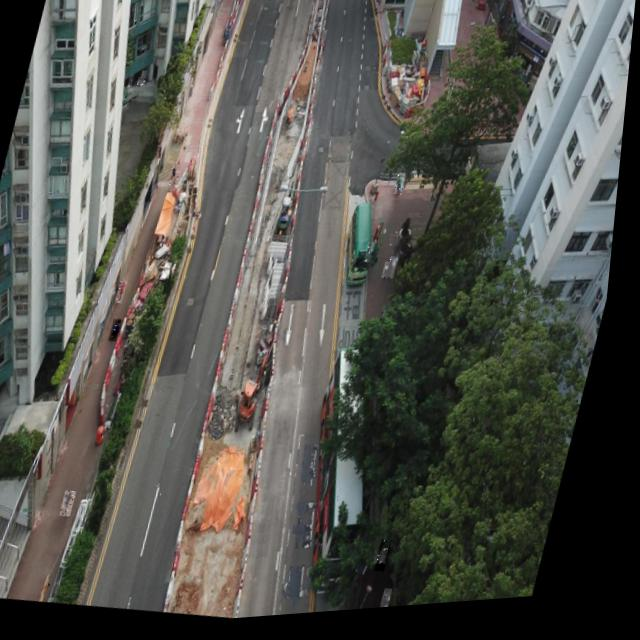Person: (386, 545, 404, 579), (70, 492, 87, 519), (174, 166, 187, 190), (115, 321, 128, 345), (398, 179, 411, 202), (121, 282, 133, 306), (392, 262, 404, 286), (393, 595, 405, 614), (370, 248, 380, 269), (388, 268, 398, 285), (449, 86, 457, 107), (129, 77, 136, 92), (141, 72, 149, 85), (139, 79, 146, 88)
